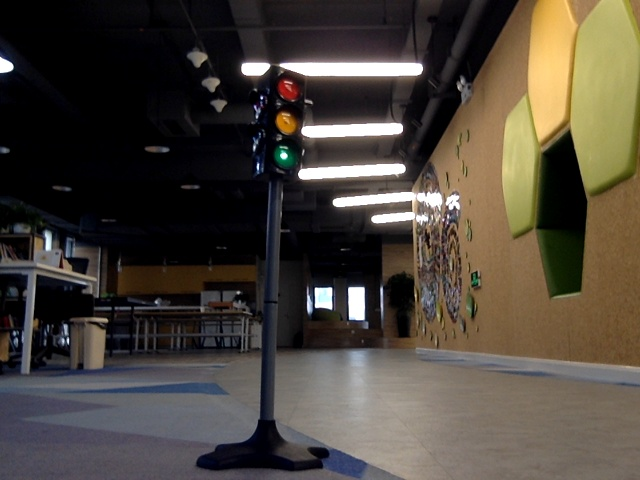green: (274, 71, 295, 169)
